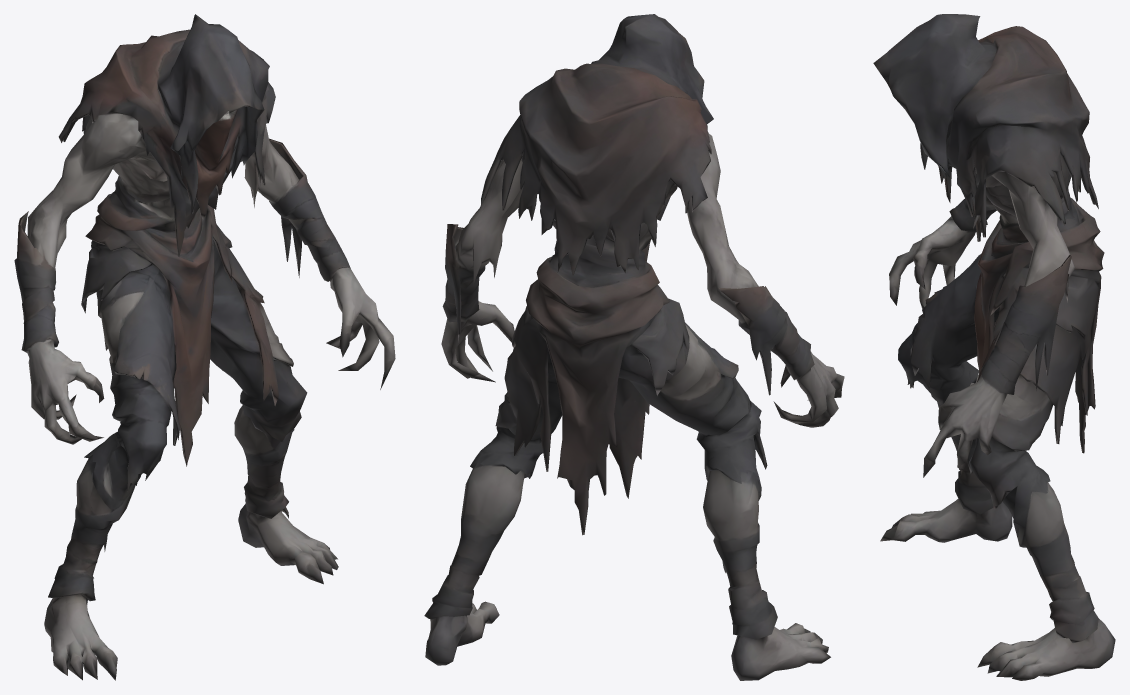
The model's file is CHR_HUNTER_v001_RAW.glb.glb.
3 renders of one model, left to right at view 1: azimuth 30°, elevation 25°; view 2: azimuth 150°, elevation 25°; view 3: azimuth 270°, elevation 25°, orthographic. The views are drawn at different scales.
Visible parts, largest first — view 1: tripo_node_b7834b8d-e100-4d27-addc-da93c5e64369; view 2: tripo_node_b7834b8d-e100-4d27-addc-da93c5e64369; view 3: tripo_node_b7834b8d-e100-4d27-addc-da93c5e64369.
Boxes of the visible parts, <box> form: tripo_node_b7834b8d-e100-4d27-addc-da93c5e64369: <box>14,14,395,680</box>; tripo_node_b7834b8d-e100-4d27-addc-da93c5e64369: <box>424,14,844,680</box>; tripo_node_b7834b8d-e100-4d27-addc-da93c5e64369: <box>873,14,1115,680</box>.
Bounding box in the file's own units: 0.6049 × 0.9798 × 0.3631.
1 material, 1 textured.
